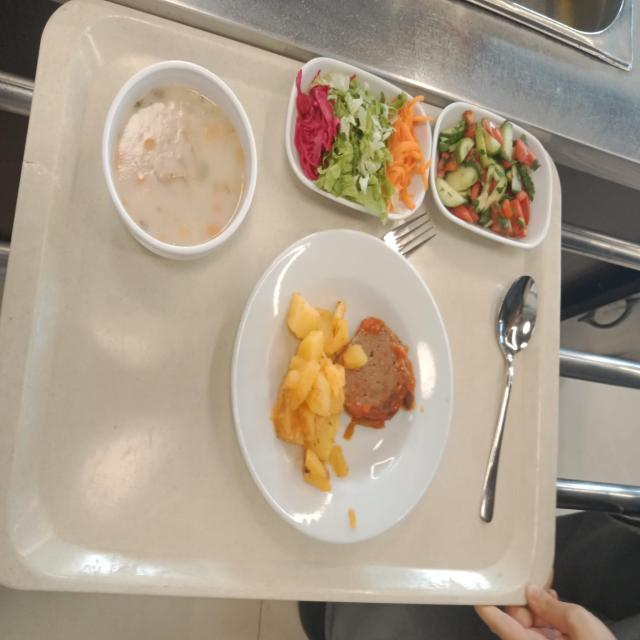ana_yemek: (230, 230, 444, 540)
corba: (101, 60, 254, 258)
yan_yemek: (286, 56, 426, 225), (427, 102, 554, 246)
